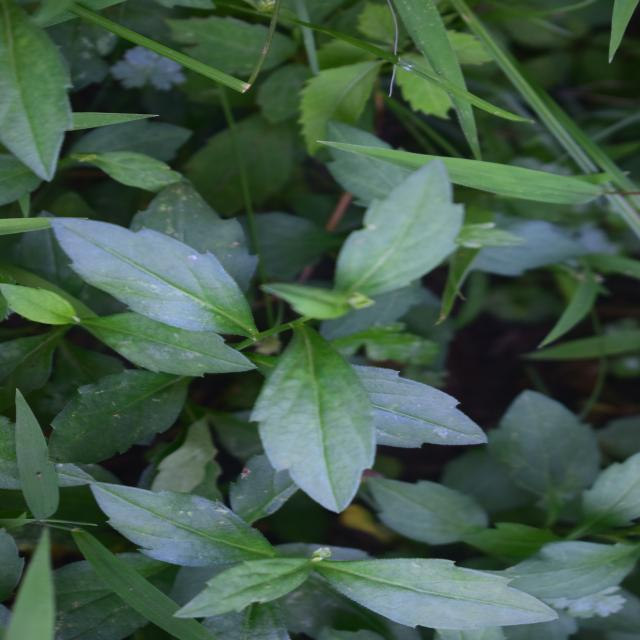Indian aster: (170, 146, 458, 573), (470, 78, 632, 546)
